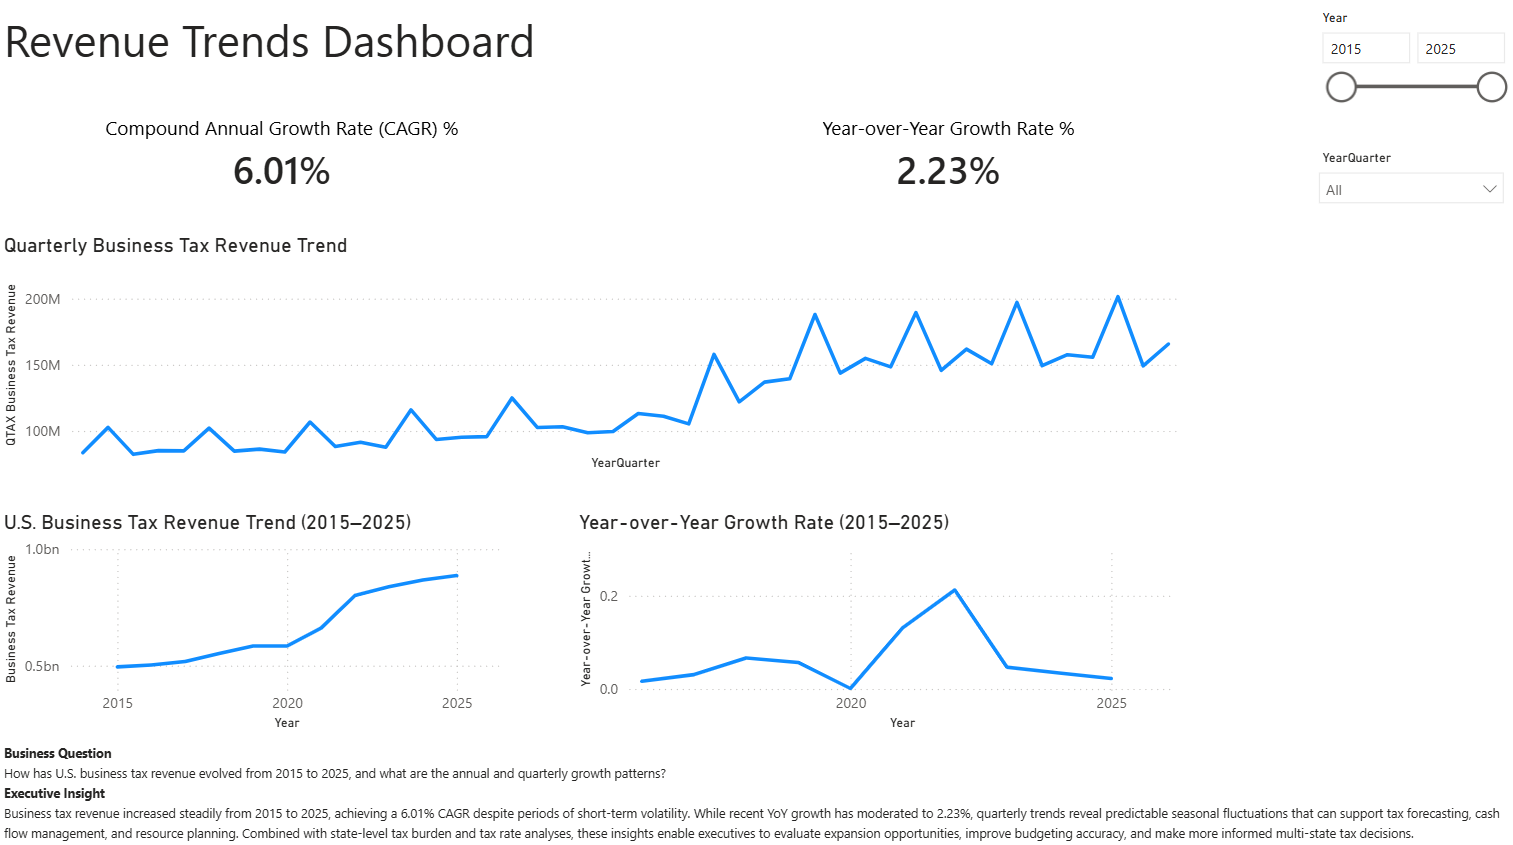

What the dashboard file says about the page in this screenshot:
{"tool":"powerbi","page":{"name":"Page 3 – Revenue Trends","canvas":[1280,720],"ordinal":2},"visuals":[{"type":"lineChart","title":"U.S. Business Tax Revenue Trend (2015–2025)","fields":{"Category":["fact_business_tax.Year"],"Y":["fact_business_tax.Business Tax Revenue"]},"box":[0,435.2,433.4,189.9],"z":0},{"type":"lineChart","title":"Quarterly Business Tax Revenue Trend","fields":{"Y":["fact_qtax_revenue.QTAX Business Tax Revenue"],"Category":["fact_qtax_revenue.Year","fact_qtax_revenue.YearQuarter"]},"box":[0,201.5,1000.3,204.2],"z":1000},{"type":"cardVisual","fields":{"Data":["corporate_tax_rate_2026_cleaned.Compound Annual Growth Rate (CAGR)"]},"box":[51,81.5,376.1,105.7],"z":2000},{"type":"lineChart","title":"Year-over-Year Growth Rate (2015–2025)","fields":{"Category":["fact_business_tax.Year"],"Y":["corporate_tax_rate_2026_cleaned.Year-over-Year Growth Rate_YoY Growth %"]},"box":[484.5,435.2,515.8,189.9],"z":3000},{"type":"cardVisual","fields":{"Data":["corporate_tax_rate_2026_cleaned.Year-over-Year Growth Rate_YoY Growth %"]},"box":[653.7,81.5,296.4,105.7],"z":4000},{"type":"textbox","box":[0,625.1,1279.7,94.9],"z":5000},{"type":"textbox","box":[0,8.1,586.6,62.7],"z":6000},{"type":"slicer","fields":{"Values":["fact_business_tax.Year"]},"box":[1103.3,8.1,176.4,108.4],"z":7000},{"type":"slicer","fields":{"Values":["fact_qtax_revenue.YearQuarter"]},"box":[1103.3,126.3,176.4,150.4],"z":8000}]}

Visuals, with their boxes in screenshot pixels (x1, y1, x2, y2), scaled from the page's 1280x720 canvas onto the 1513x845 screenshot:
"U.S. Business Tax Revenue Trend (2015–2025)" lineChart: select_region(0, 511, 512, 734)
"Quarterly Business Tax Revenue Trend" lineChart: select_region(0, 236, 1182, 476)
cardVisual - corporate_tax_rate_2026_cleaned.Compound Annual Growth Rate (CAGR): select_region(60, 96, 505, 220)
"Year-over-Year Growth Rate (2015–2025)" lineChart: select_region(573, 511, 1182, 734)
cardVisual - corporate_tax_rate_2026_cleaned.Year-over-Year Growth Rate_YoY Growth %: select_region(773, 96, 1123, 220)
textbox: select_region(0, 734, 1512, 844)
textbox: select_region(0, 10, 693, 83)
slicer - fact_business_tax.Year: select_region(1304, 10, 1512, 137)
slicer - fact_qtax_revenue.YearQuarter: select_region(1304, 148, 1512, 325)
